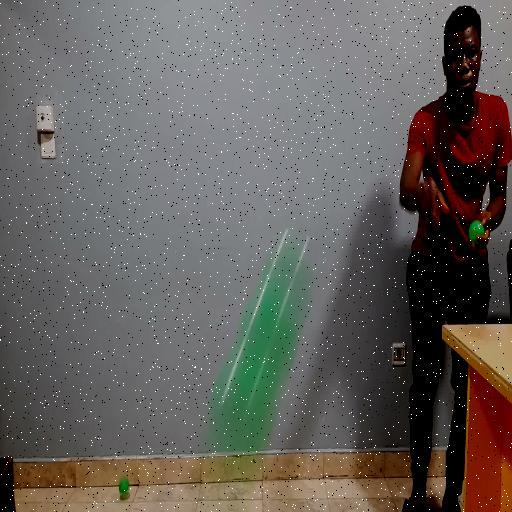plastic-ball: (210, 223, 315, 466)
